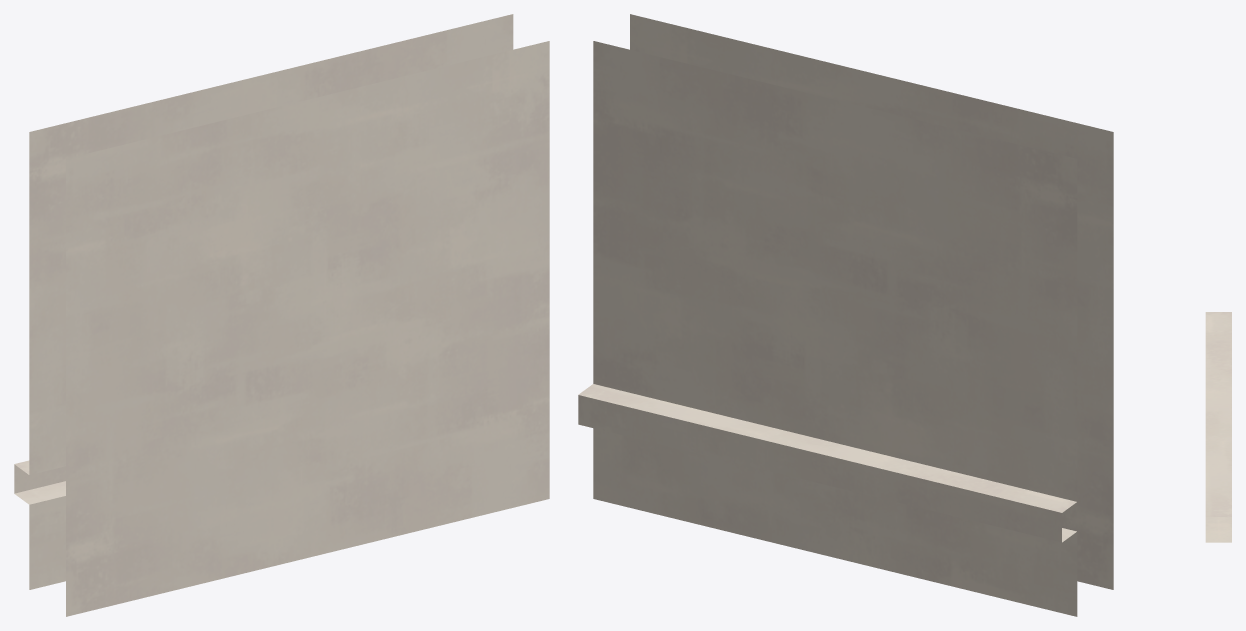
Rendered from classroom outer side wall.fbx.
3 views of the same model, side by side, from view 1: azimuth 30°, elevation 25°; view 2: azimuth 150°, elevation 25°; view 3: azimuth 270°, elevation 25° (orthographic). The views are drawn at different scales.
Parts seen in each view (by area): view 1: pCube449; view 2: pCube449; view 3: pCube449.
Part boxes in pixels (box(x1,y1,x2,y2)): pCube449: box(14, 14, 549, 616); pCube449: box(578, 14, 1113, 616); pCube449: box(1205, 312, 1231, 542).
Size of the model in its own units: 400 by 362 by 74.06.
